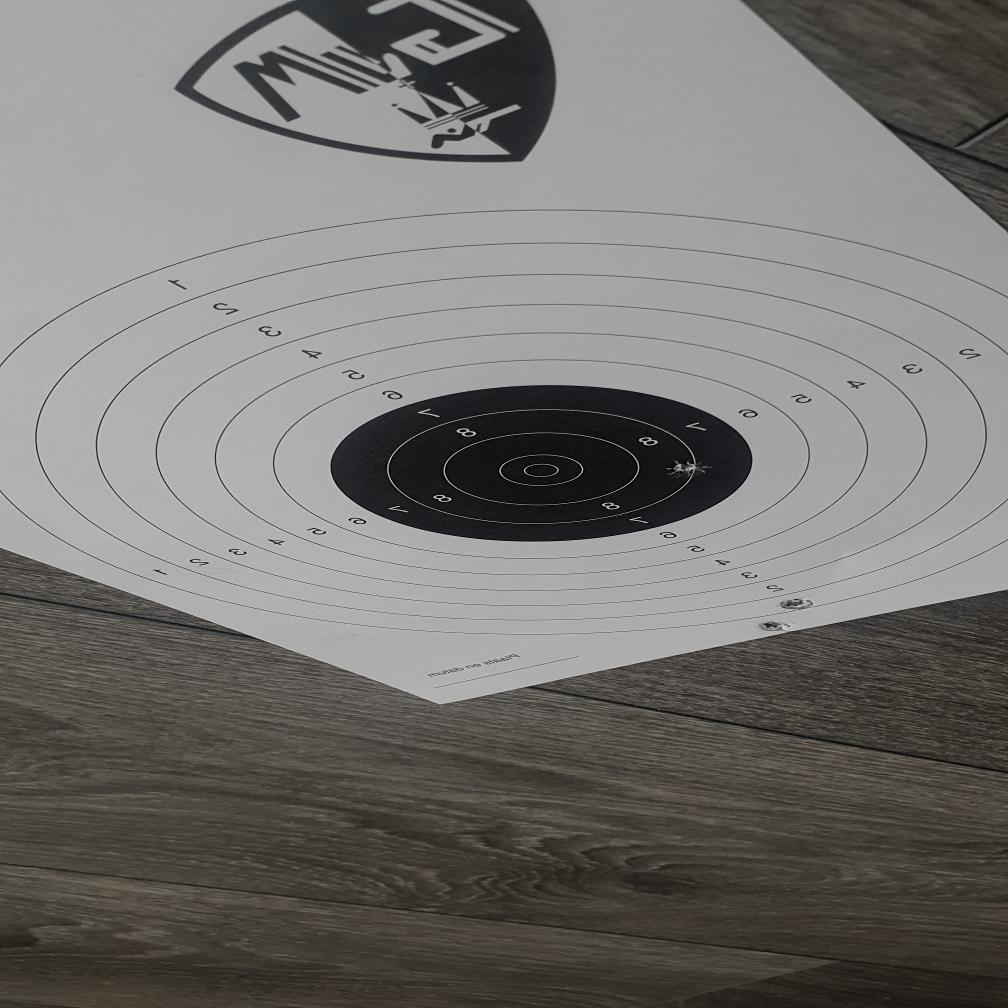0: (752, 619, 794, 634)
1: (775, 596, 816, 612)
8: (664, 457, 709, 479)
Target: (0, 209, 1008, 636)
black_contour: (331, 385, 752, 542)
